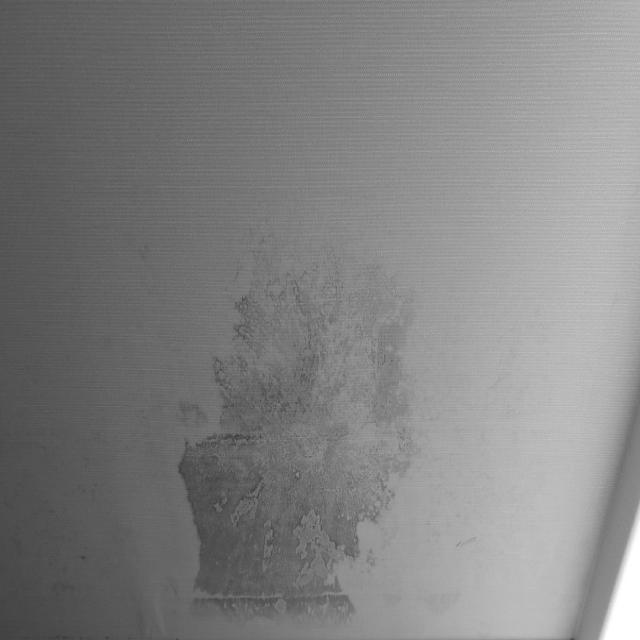stain marks: (174, 198, 460, 634), (10, 218, 170, 507), (4, 509, 126, 628)
